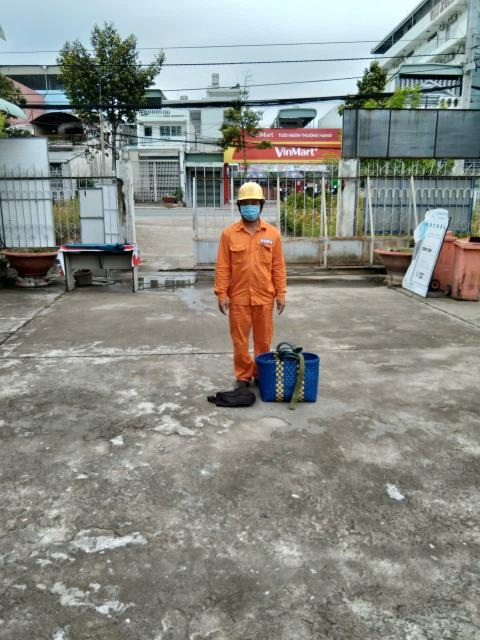helmet: (234, 182, 270, 211)
shoes: (230, 377, 253, 398)
